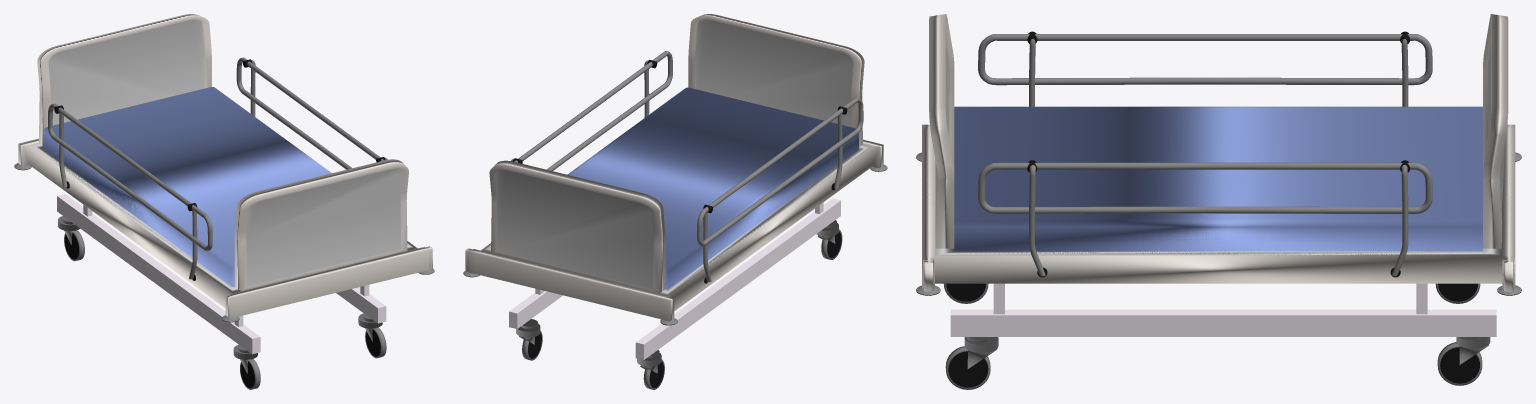
File: BED.fbx
The picture shows the model from 3 angles, left to right: view 1: azimuth 30°, elevation 25°; view 2: azimuth 150°, elevation 25°; view 3: azimuth 270°, elevation 25°; orthographic projection. The views are drawn at different scales.
Parts seen in each view (by area): view 1: Cube.007, Cube.004, Cylinder.003, Cone.001, Cylinder.002, Cylinder.001; view 2: Cube.007, Cube.004, Cylinder.003, Cone.001, Cylinder.002, Cylinder.001; view 3: Cube.007, Cube.004, Cylinder.002, Cylinder.003, Cone.001, Cylinder, Cylinder.001.
Boxes of the visible parts, <box> form: Cube.007: <box>18,14,432,318</box>; Cube.004: <box>57,194,386,354</box>; Cylinder.003: <box>48,103,212,251</box>; Cone.001: <box>58,216,386,389</box>; Cylinder.002: <box>236,57,384,169</box>; Cylinder.001: <box>59,113,197,279</box>; Cube.007: <box>465,14,883,321</box>; Cube.004: <box>509,198,840,359</box>; Cylinder.003: <box>697,97,863,246</box>; Cone.001: <box>516,220,842,389</box>; Cylinder.002: <box>514,51,672,170</box>; Cylinder.001: <box>703,114,842,281</box>; Cube.007: <box>922,14,1515,291</box>; Cube.004: <box>950,283,1496,336</box>; Cylinder.002: <box>978,162,1432,213</box>; Cylinder.003: <box>978,34,1432,85</box>; Cone.001: <box>944,283,1490,389</box>; Cylinder: <box>1029,165,1408,276</box>; Cylinder.001: <box>1029,39,1408,106</box>.
Size of the model in its own units: 1114 by 1024 by 1988.
